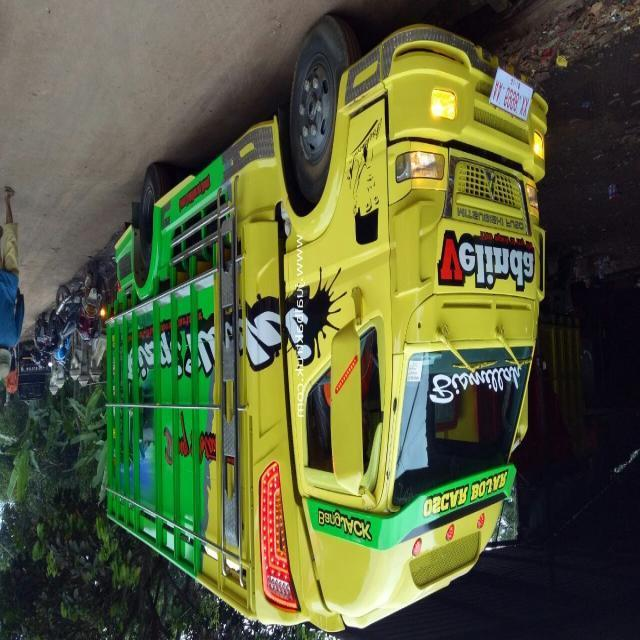truck: (106, 25, 548, 631)
